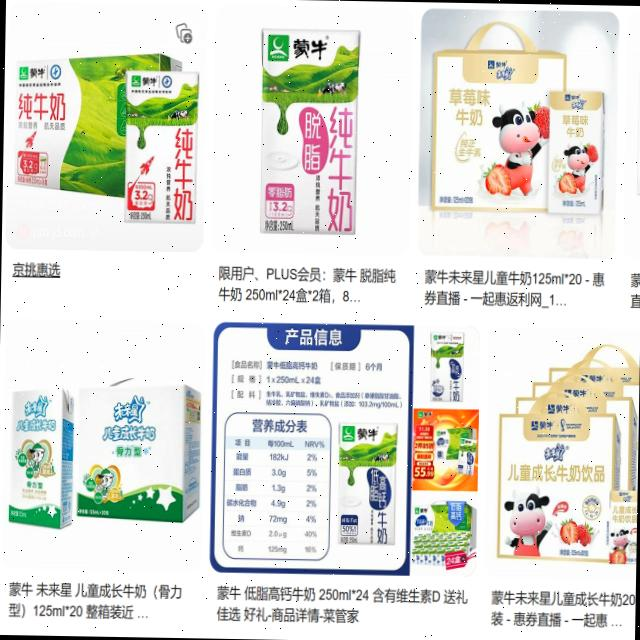mengniu_milk: (260, 28, 360, 106), (124, 70, 200, 128)
